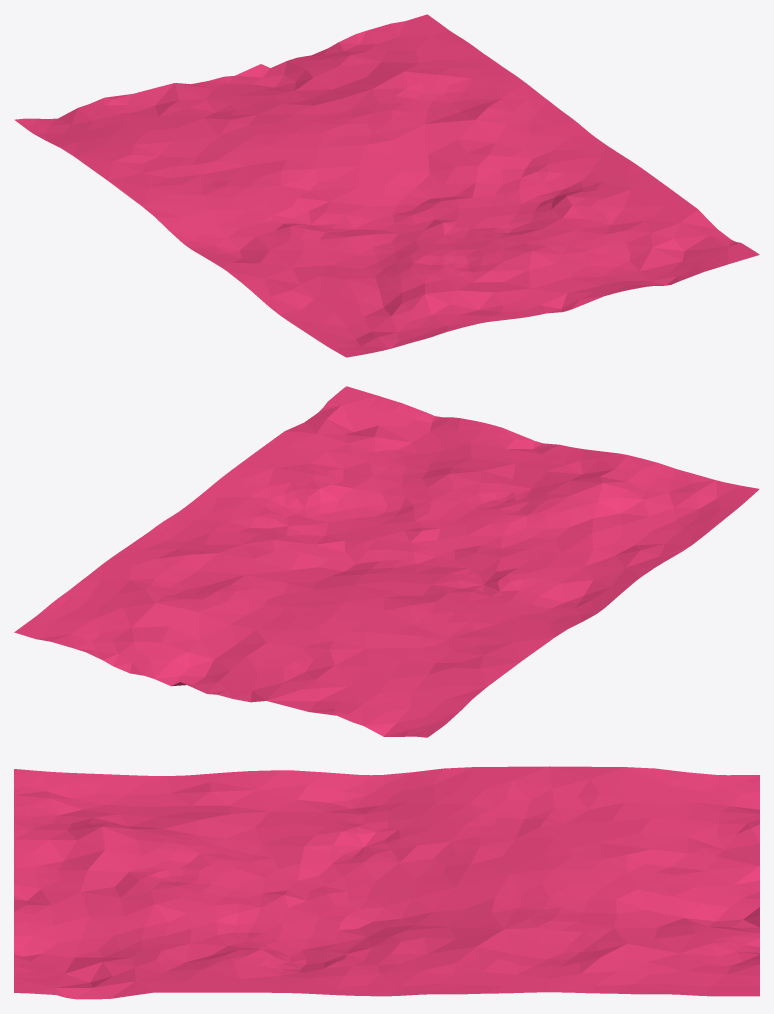
The model's file is ground_034.fbx.
3 renders of one model, top to bottom at view 1: azimuth 30°, elevation 25°; view 2: azimuth 150°, elevation 25°; view 3: azimuth 270°, elevation 25°, orthographic. The views are drawn at different scales.
Visible parts, largest first — view 1: ground.034; view 2: ground.034; view 3: ground.034.
Part boxes in pixels (x1=…): ground.034: x1=14, y1=14, x2=759, y2=357; ground.034: x1=14, y1=386, x2=759, y2=737; ground.034: x1=14, y1=766, x2=759, y2=999.
Size of the model in its own units: 2542 by 140 by 3540.
1 material, 1 textured.
